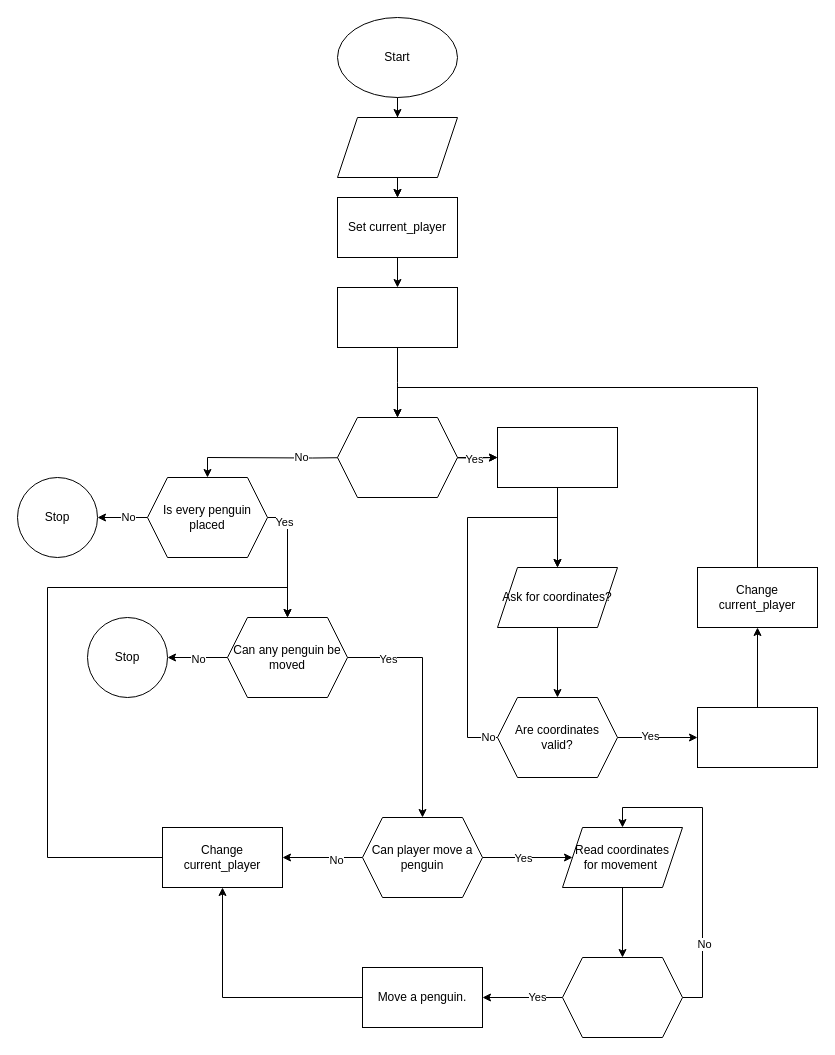
Some shapes in this 835 by 1055 pixel diagram are drawn without their labels. The shapes that lost their labels are listed below. From the top down, each one's centre as x and y in pixels, then its label:
At point 397,147: "Read board dimensions m,n".
At point 397,317: "Generate random board".
At point 397,457: "Can current_player place penguin".
At point 557,457: "Show board".
At point 757,737: "Place a penguin".
At point 622,997: "Is a valid move".
